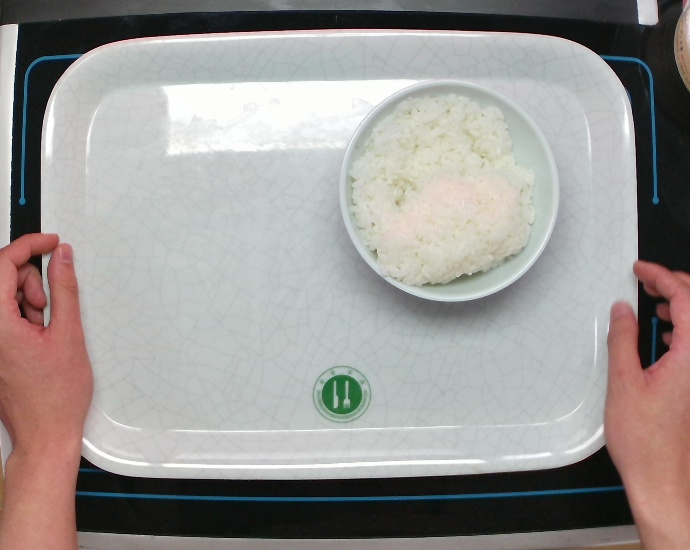JYsf-Fan_Wan: (334, 75, 563, 304)
